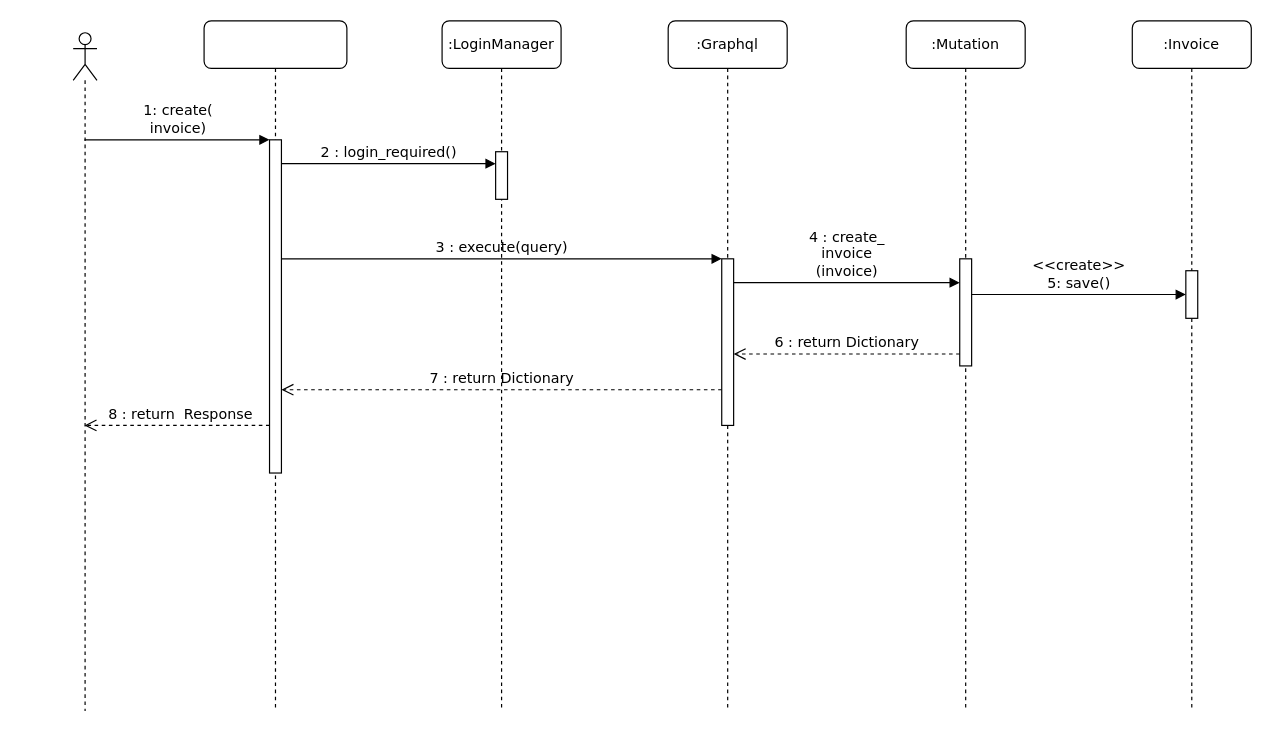
Some shapes in this 1272 by 732 pixel diagram are drawn without their labels. The box of each missing label's shape, as (x1, y1, x2, y2) in pixels:
:Invoice Blueprint: (203, 20, 347, 711)
Admin|Doctor|Nurse: (72, 32, 97, 711)
